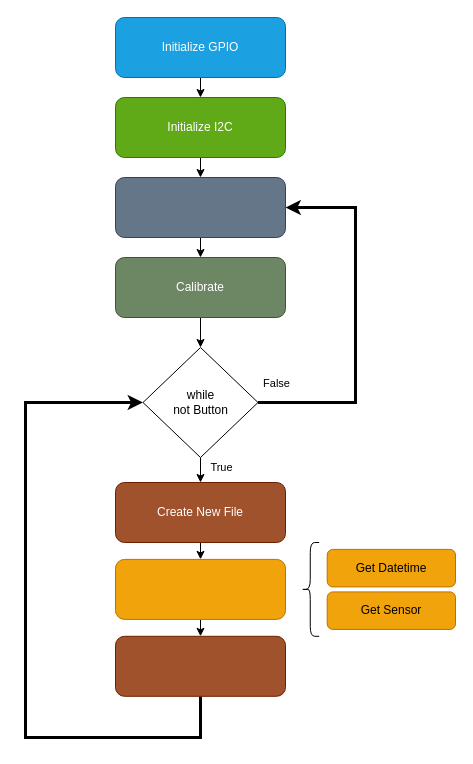
The diagram is 473 pixels wide and 764 high, and some of its shapes have lost their labels. Here are the shapes that lost their labels. From the top down, the box of each, then its label:
(114, 176, 286, 238): Wait
(114, 558, 286, 619): Get Batch n times
(114, 635, 286, 696): Append Batch to File
